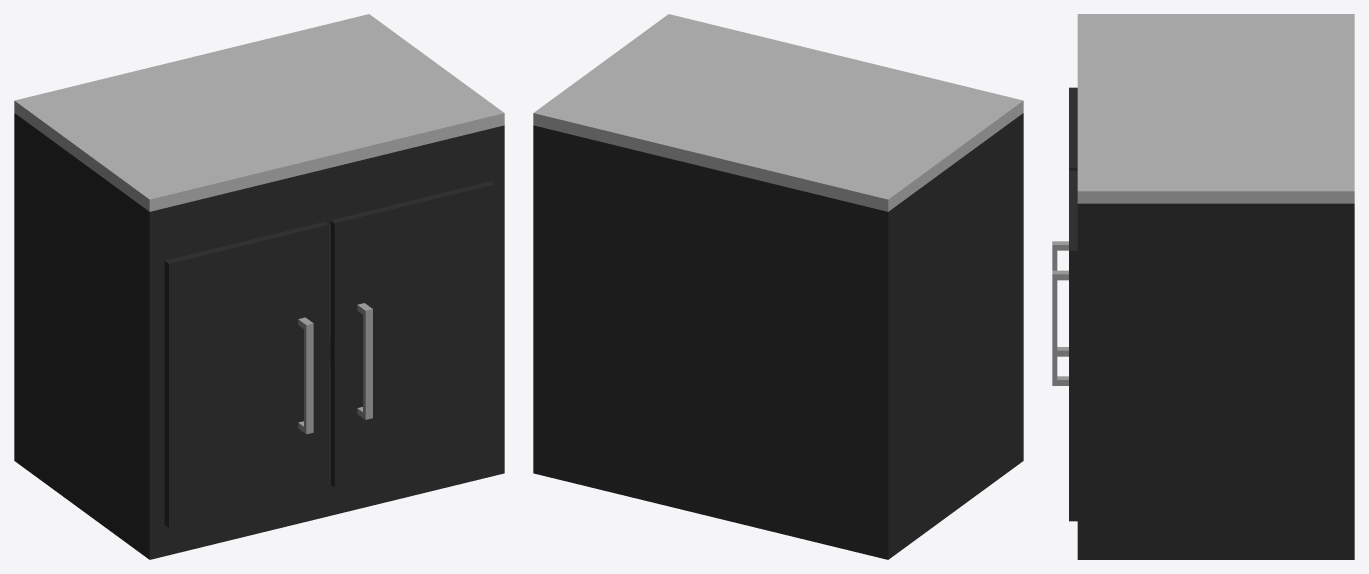
The model's file is KitchenCounter_01.fbx.
3 renders of one model, left to right at view 1: azimuth 30°, elevation 25°; view 2: azimuth 150°, elevation 25°; view 3: azimuth 270°, elevation 25°, orthographic. The views are drawn at different scales.
Parts seen in each view (by area): view 1: KitchenCounter_01, KitchenCounter_01_Door_R, KitchenCounter_01_Door_L; view 2: KitchenCounter_01; view 3: KitchenCounter_01, KitchenCounter_01_Door_R, KitchenCounter_01_Door_L.
Boxes of the visible parts, x1,y1,x2,y2 form: KitchenCounter_01: [14, 14, 504, 559]; KitchenCounter_01_Door_R: [330, 181, 495, 487]; KitchenCounter_01_Door_L: [164, 221, 329, 527]; KitchenCounter_01: [533, 14, 1023, 559]; KitchenCounter_01: [1077, 14, 1354, 559]; KitchenCounter_01_Door_R: [1052, 170, 1077, 521]; KitchenCounter_01_Door_L: [1052, 87, 1077, 356].
Size of the model in its own units: 1 by 0.9704 by 0.7215.
